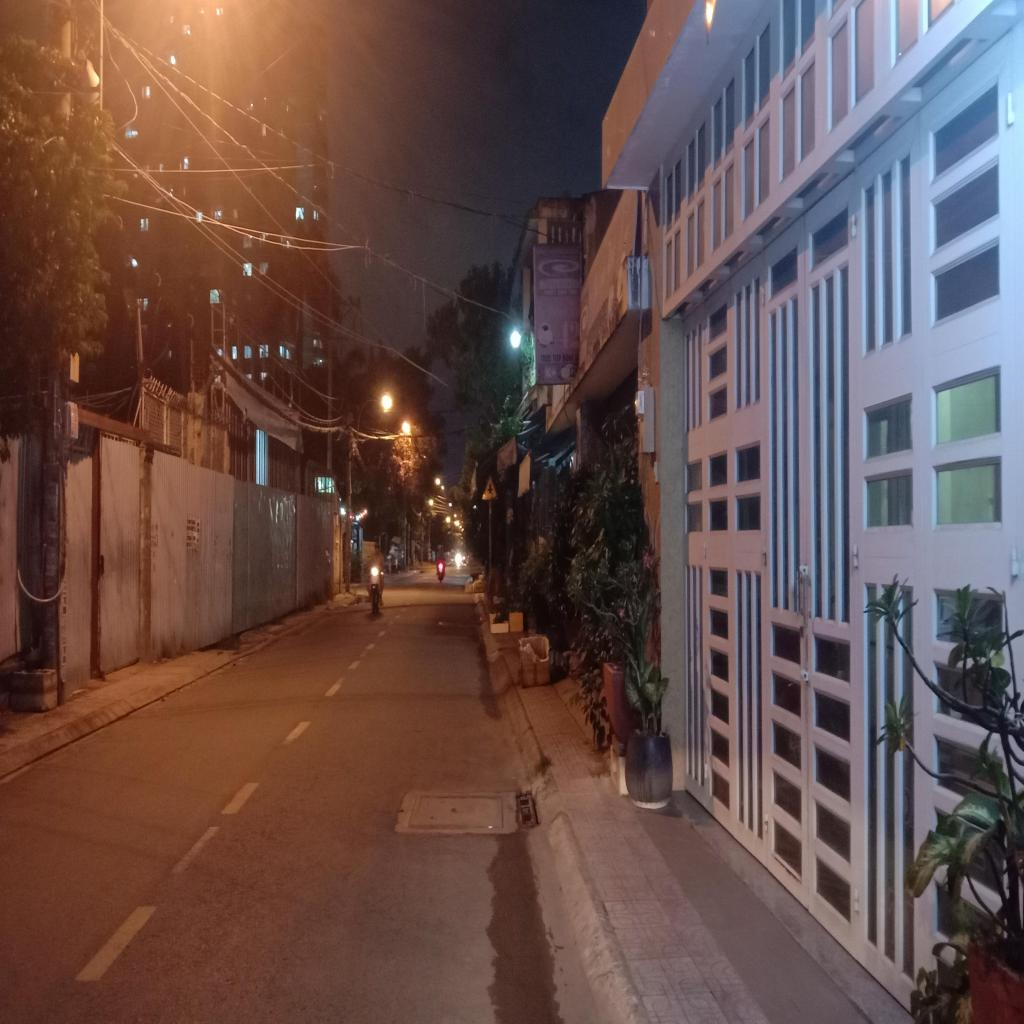giao_nhau_voi_duong_khong_uu_tien: (481, 474, 498, 501)
